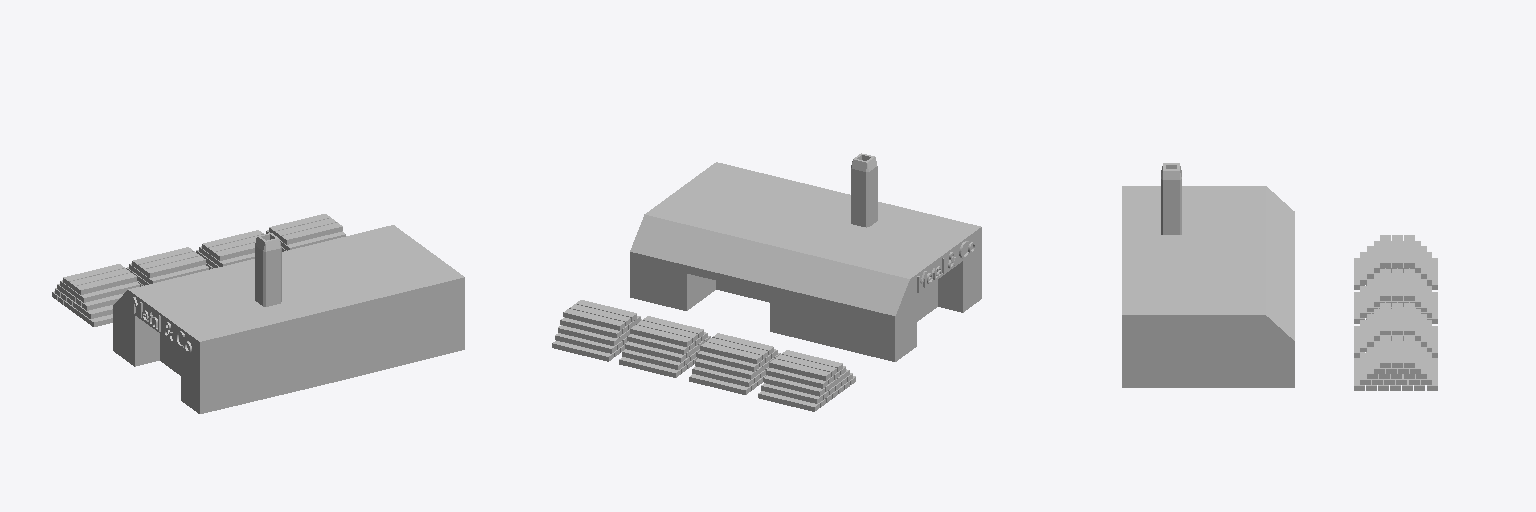
File: metal.obj
3 renders of one model, left to right at view 1: azimuth 30°, elevation 25°; view 2: azimuth 150°, elevation 25°; view 3: azimuth 270°, elevation 25°, orthographic.
Parts seen in each view (by area): view 1: Cube_Material.002, Cube_Material.003, Cube.004_Material.001, Cube.005_Material.004, Cube_Matériau, off; view 2: Cube_Material.003, Cube.004_Material.001, Cube_Material.002, Cube_Matériau, Cube.005_Material.004, off; view 3: Cube_Material.003, Cube.004_Material.001, Cube_Material.002, Cube.005_Material.004.
Part boxes in pixels (left/top/right/bottom): Cube_Material.002: left=113, top=277, right=464, bottom=413; Cube_Material.003: left=128, top=225, right=463, bottom=341; Cube.004_Material.001: left=52, top=214, right=345, bottom=326; Cube.005_Material.004: left=255, top=233, right=281, bottom=306; Cube_Matériau: left=135, top=316, right=180, bottom=375; off: left=133, top=297, right=191, bottom=352; Cube_Material.003: left=630, top=162, right=980, bottom=315; Cube.004_Material.001: left=552, top=300, right=855, bottom=411; Cube_Material.002: left=630, top=227, right=981, bottom=361; Cube_Matériau: left=687, top=261, right=962, bottom=321; Cube.005_Material.004: left=851, top=153, right=877, bottom=227; off: left=917, top=241, right=975, bottom=292; Cube_Material.003: left=1122, top=186, right=1294, bottom=340; Cube.004_Material.001: left=1354, top=235, right=1437, bottom=390; Cube_Material.002: left=1122, top=315, right=1294, bottom=387; Cube.005_Material.004: left=1161, top=163, right=1181, bottom=234.
Bounding box in the file's own units: 8.82 × 4.21 × 8.78.